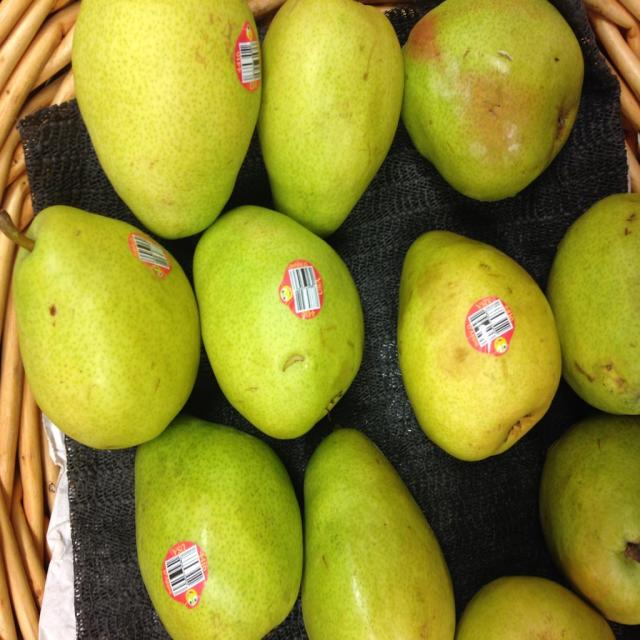pear: (14, 202, 202, 448), (258, 0, 404, 235)
